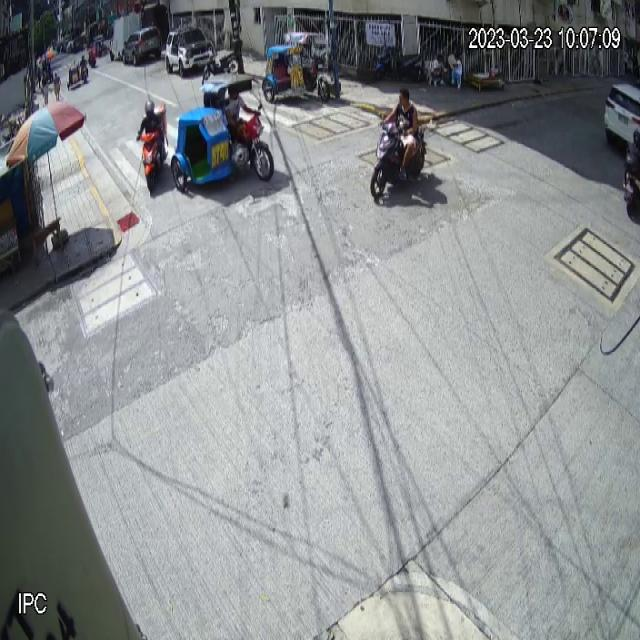Motorcycle: (370, 111, 430, 199), (136, 105, 169, 193)
Tricycle: (170, 72, 275, 194), (262, 32, 331, 104)
